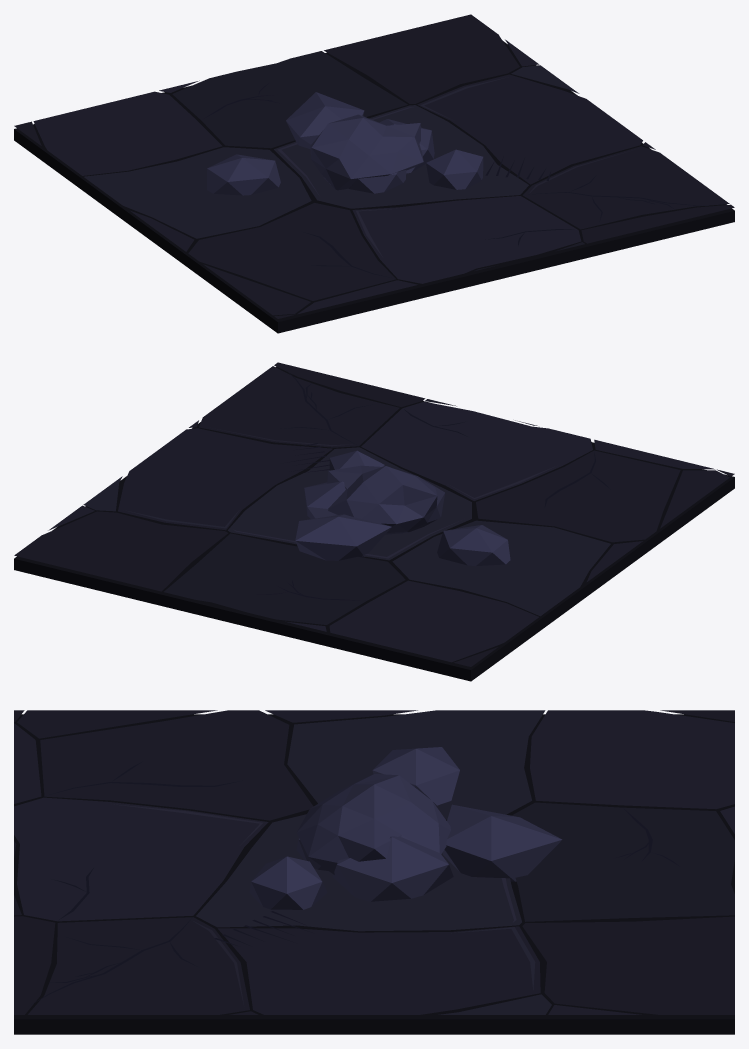
Rendered from floor_tile_large_rocks.glb.
3 views of the same model, one above another, from view 1: azimuth 30°, elevation 25°; view 2: azimuth 150°, elevation 25°; view 3: azimuth 270°, elevation 25° (orthographic). The views are drawn at different scales.
Parts seen in each view (by area): view 1: floor_tile_large_rocks.001; view 2: floor_tile_large_rocks.001; view 3: floor_tile_large_rocks.001.
Boxes of the visible parts, x1,y1,x2,y2 form: floor_tile_large_rocks.001: (14, 14, 734, 333); floor_tile_large_rocks.001: (14, 362, 734, 681); floor_tile_large_rocks.001: (14, 710, 734, 1034).
Size of the model in its own units: 4 by 0.64 by 4.
